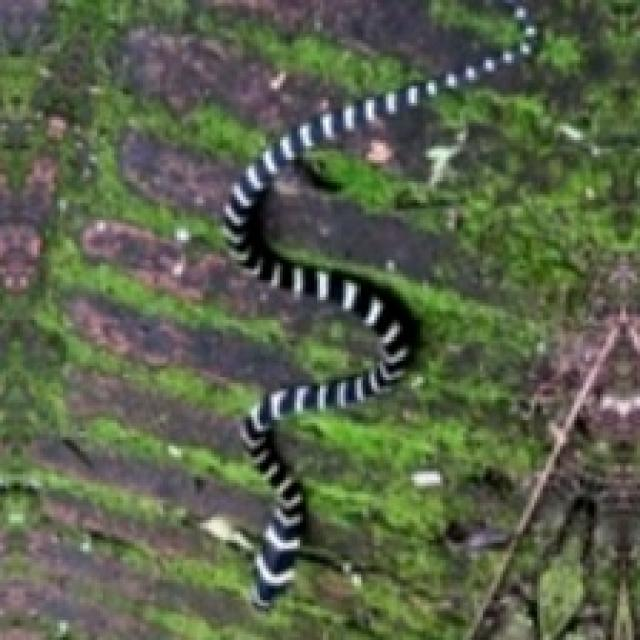king cobra: (223, 0, 571, 603)
